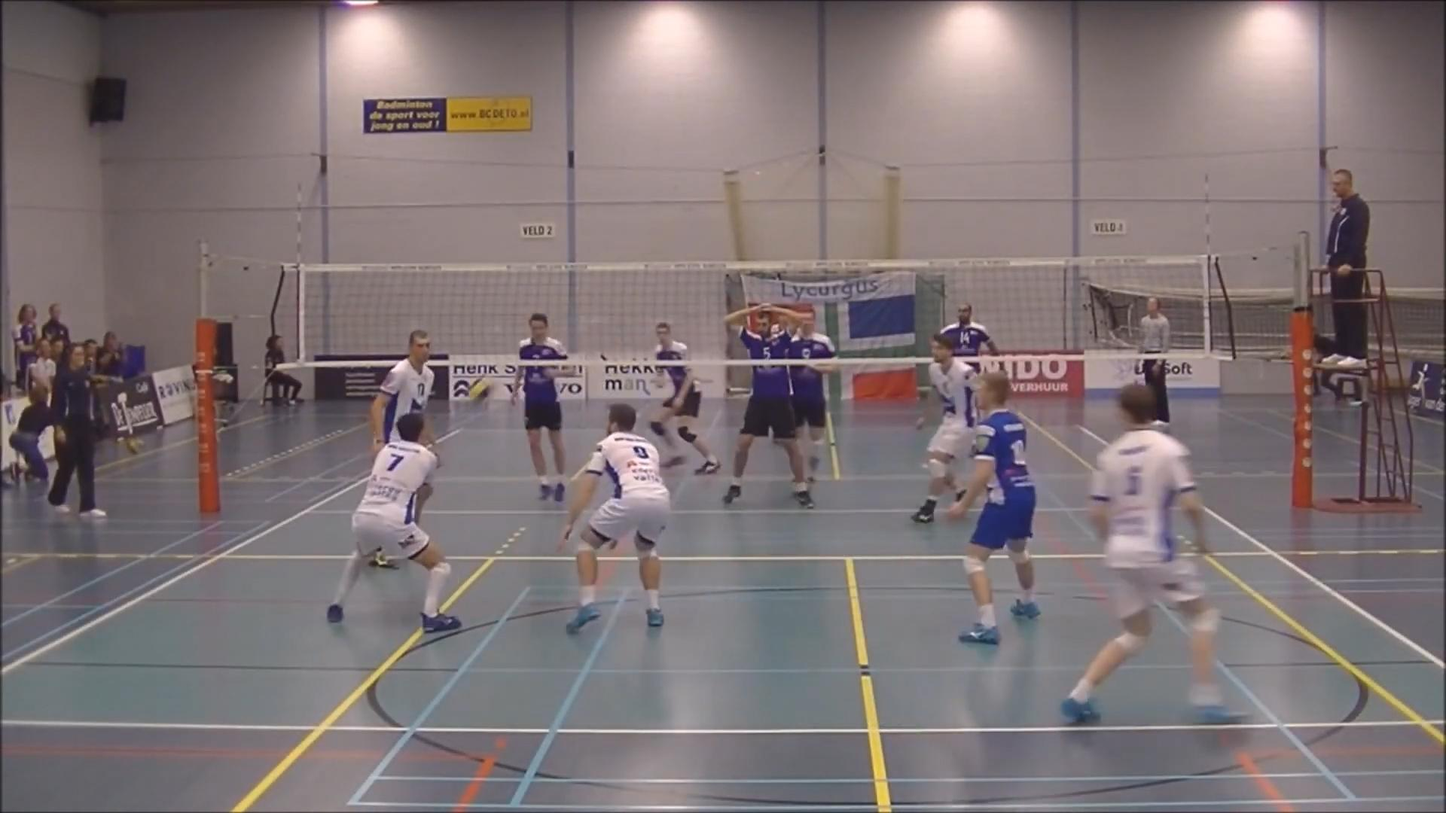Player: (1061, 384, 1237, 723), (560, 403, 670, 632), (947, 372, 1039, 644), (724, 304, 813, 507), (911, 333, 976, 522), (511, 313, 567, 502), (788, 312, 835, 481), (370, 330, 434, 454), (650, 365, 720, 474), (940, 303, 997, 358)
Receive: (342, 408, 497, 628)
ball: (466, 374, 493, 408)
